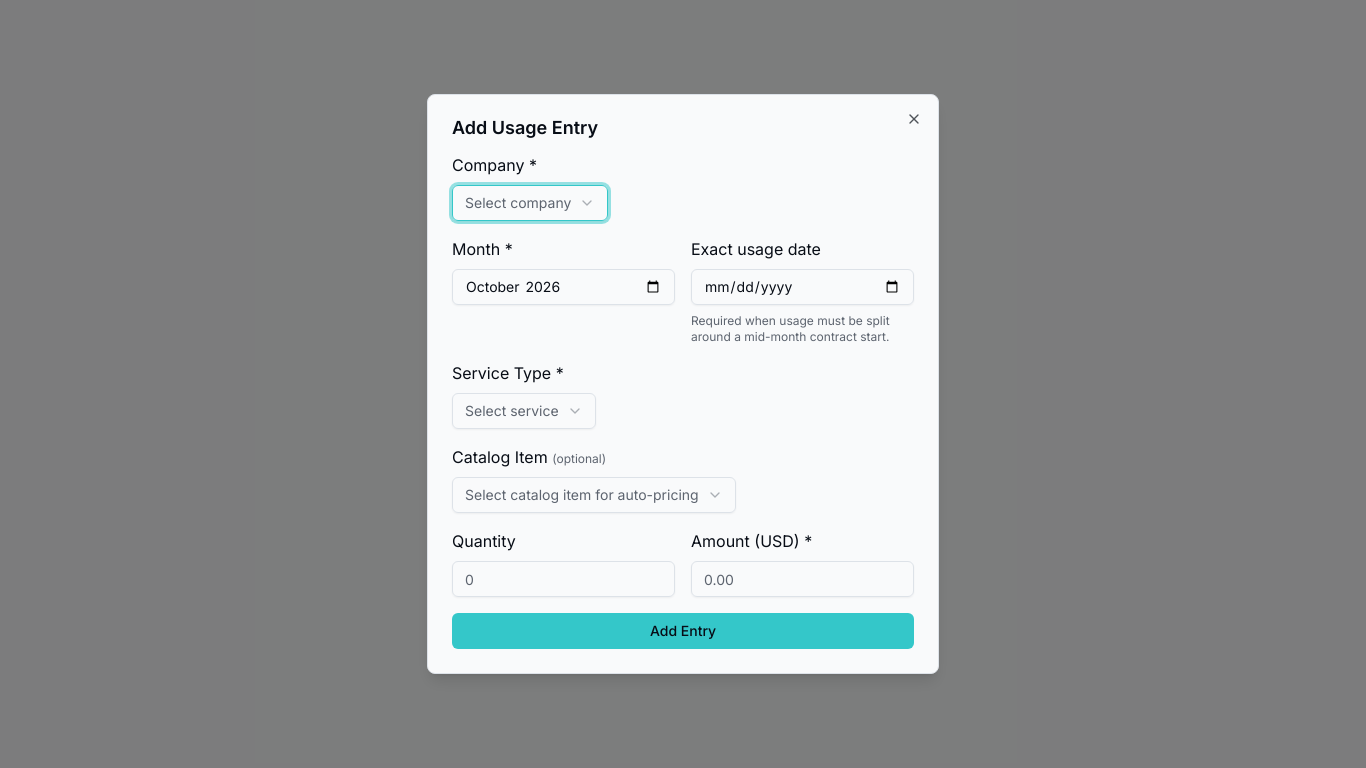
UsageEntryDialog smart service filtering › renders ECS flavor rows with auto-priced and manual-pricing states
Click the dropdown labelled "Select company".
click(530, 203)  # box top-left (452, 185), bottom-right (608, 221)
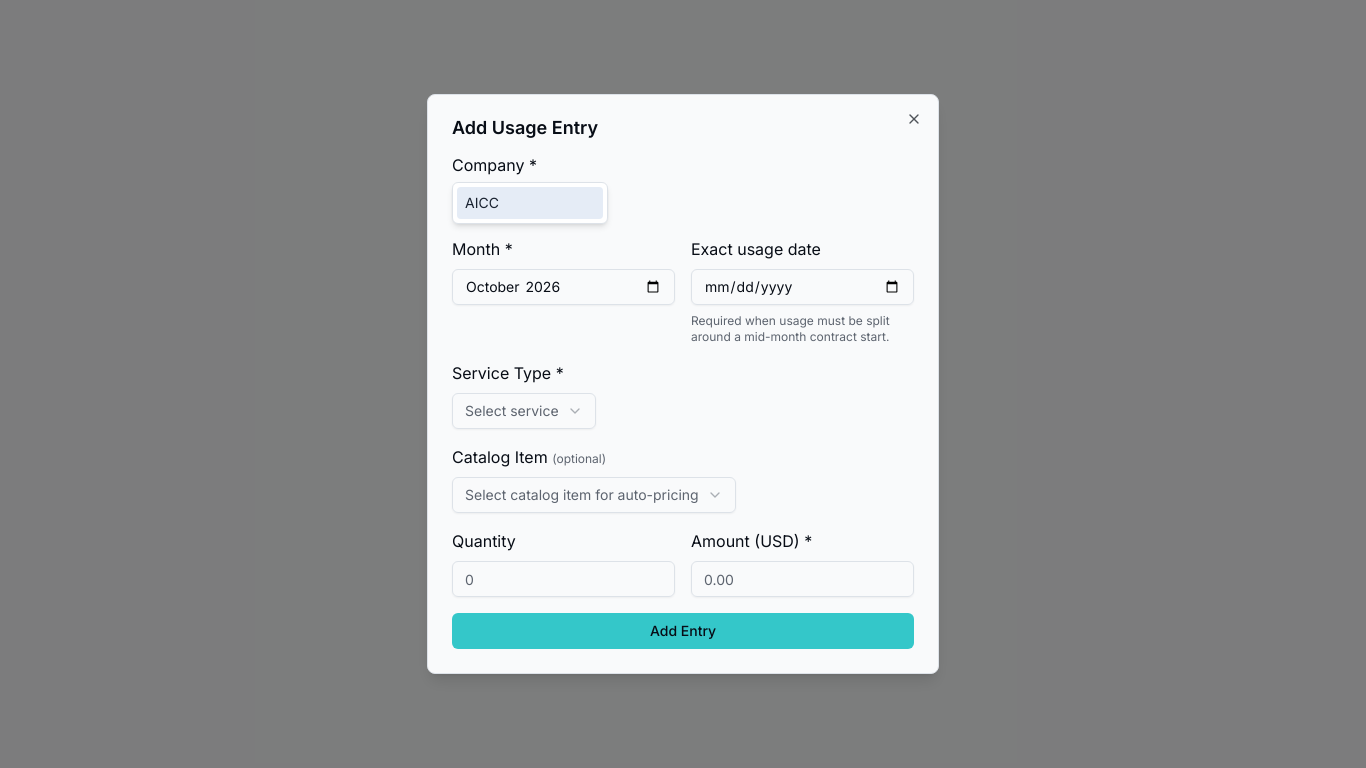
Click the option "AICC".
click(530, 203)  # box top-left (457, 187), bottom-right (603, 219)
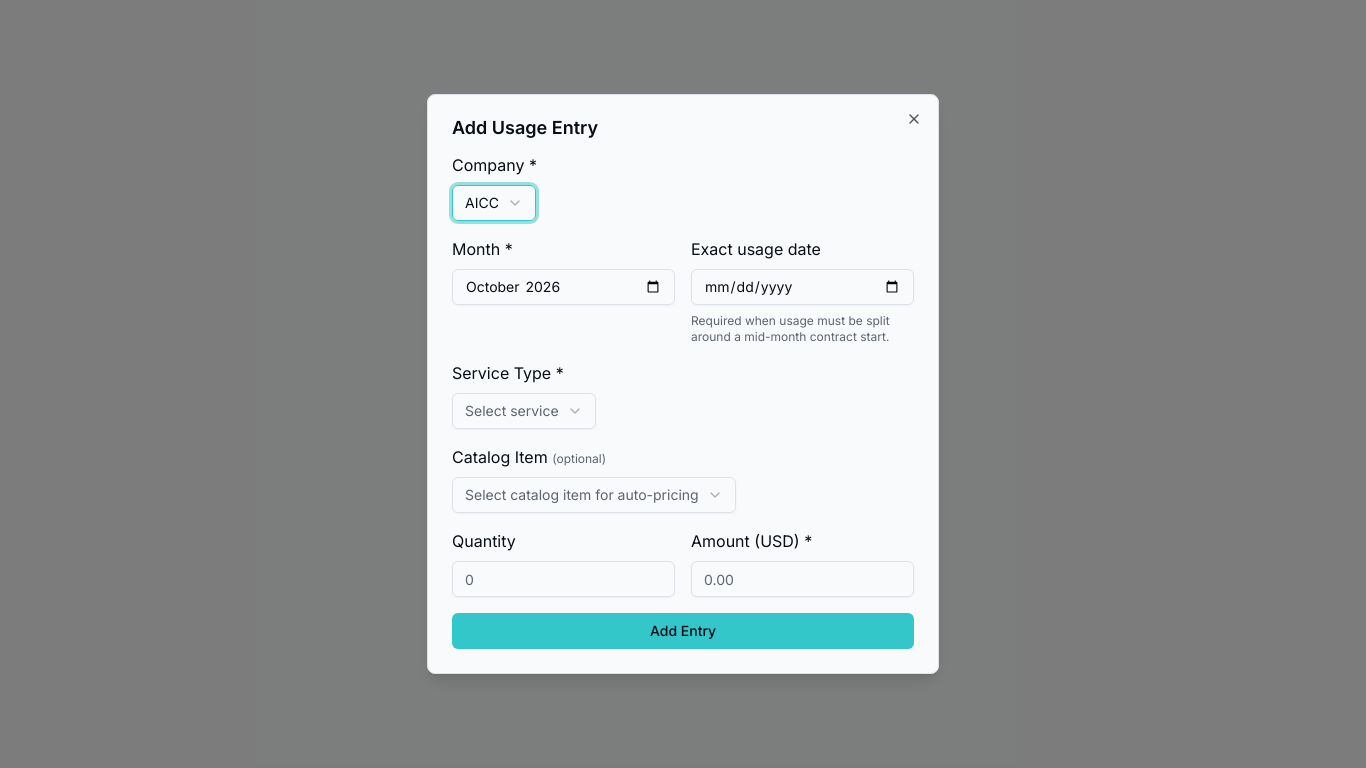
Click the dropdown labelled "Select service".
click(524, 411)  # box top-left (452, 393), bottom-right (596, 429)
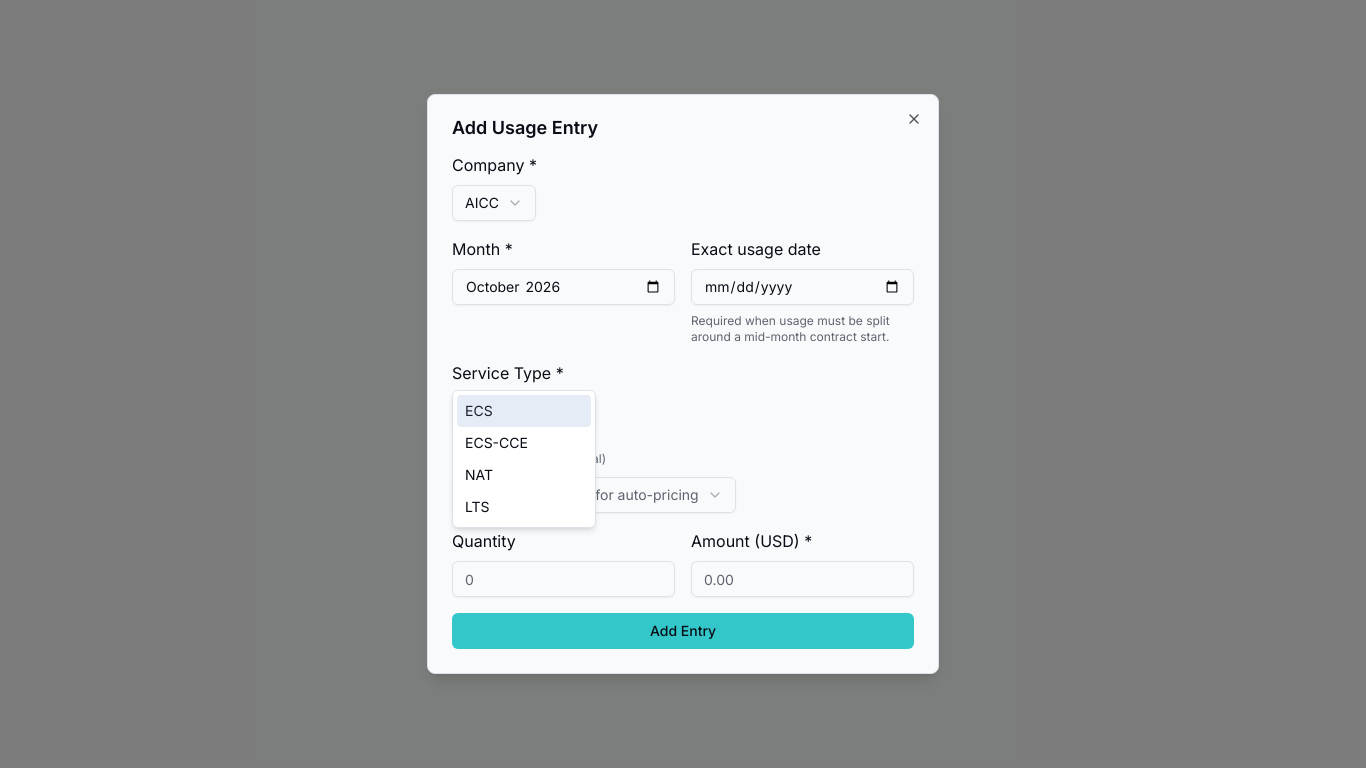
Click the option "ECS".
click(524, 411)  # box top-left (457, 395), bottom-right (591, 427)
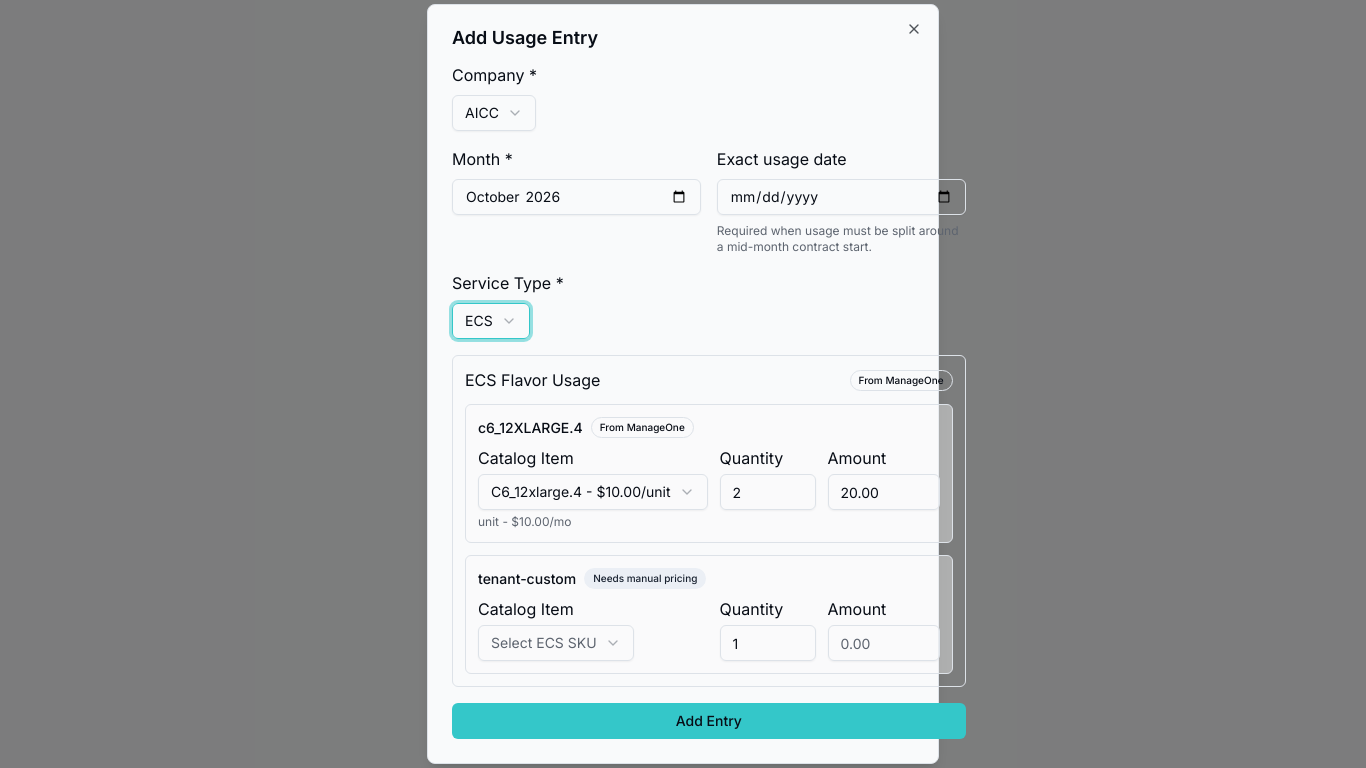
Check: the text "c6_12XLARGE.4" is shown, box top-left (478, 418), bottom-right (583, 438)
Check: the text "tenant-custom" is shown, box top-left (478, 568), bottom-right (576, 588)
Check: the text "From ManageOne" is shown 2 times, box top-left (850, 370), bottom-right (952, 390); top-left (591, 417), bottom-right (694, 438)
